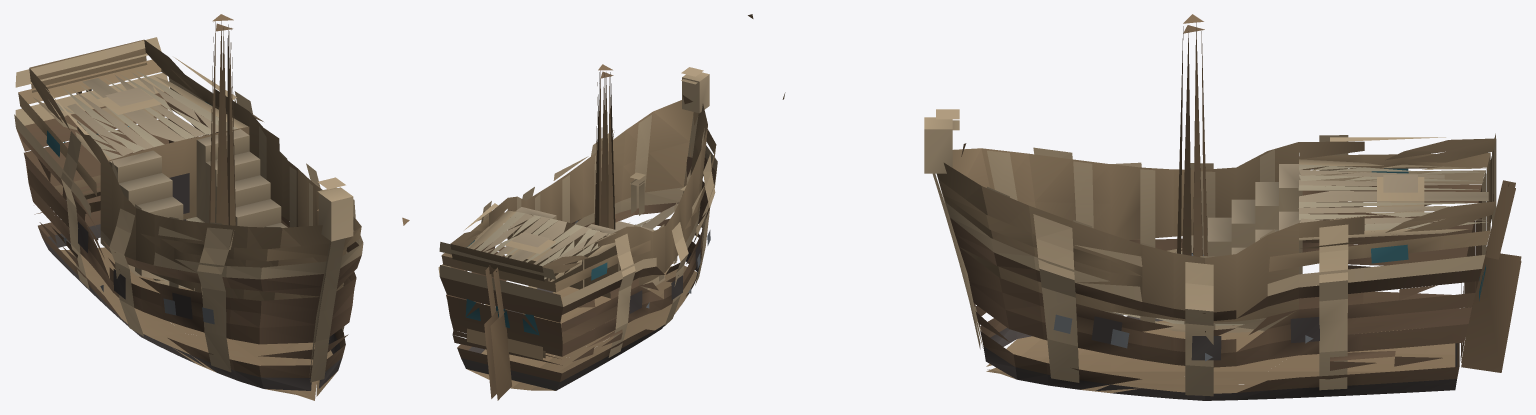
Rendered from hull.lod.glb.
3 views of the same model, side by side, from view 1: azimuth 30°, elevation 25°; view 2: azimuth 150°, elevation 25°; view 3: azimuth 270°, elevation 25° (orthographic). The views are drawn at different scales.
Parts seen in each view (by area): view 1: hull; view 2: hull; view 3: hull.
Part boxes in pixels (<box>): hull: <box>14,14,409,400</box>; hull: <box>438,14,753,400</box>; hull: <box>782,14,1521,400</box>.
Size of the model in its own units: 3.71 by 4.92 by 9.37.
